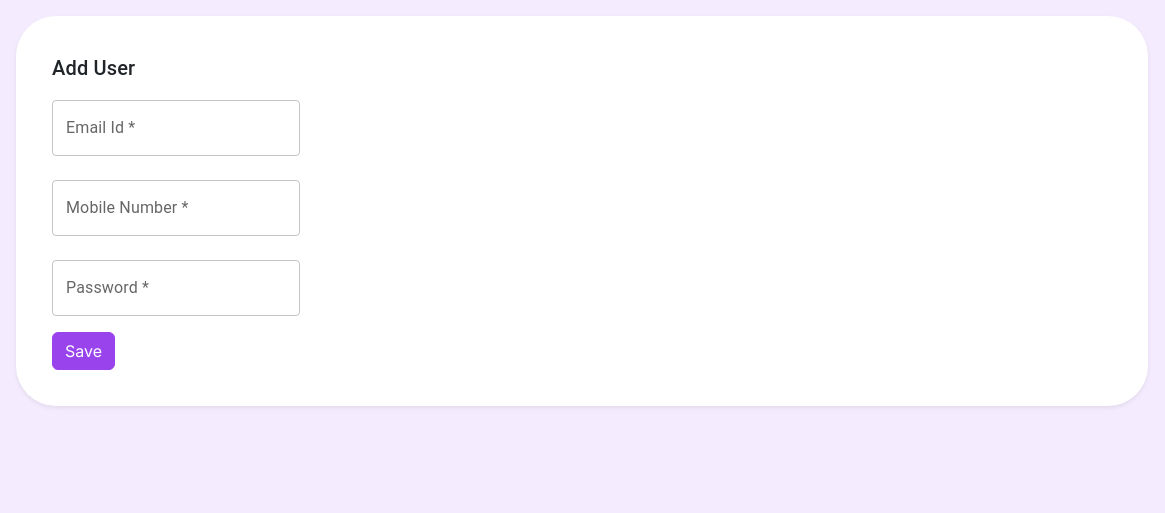
it: SuperAdmin Component › validates email input correctly
The image size is (1165, 513).
Type "invalid-email" into the field labelled "Email Id *". click: (176, 128)
box: [52,100,300,156]
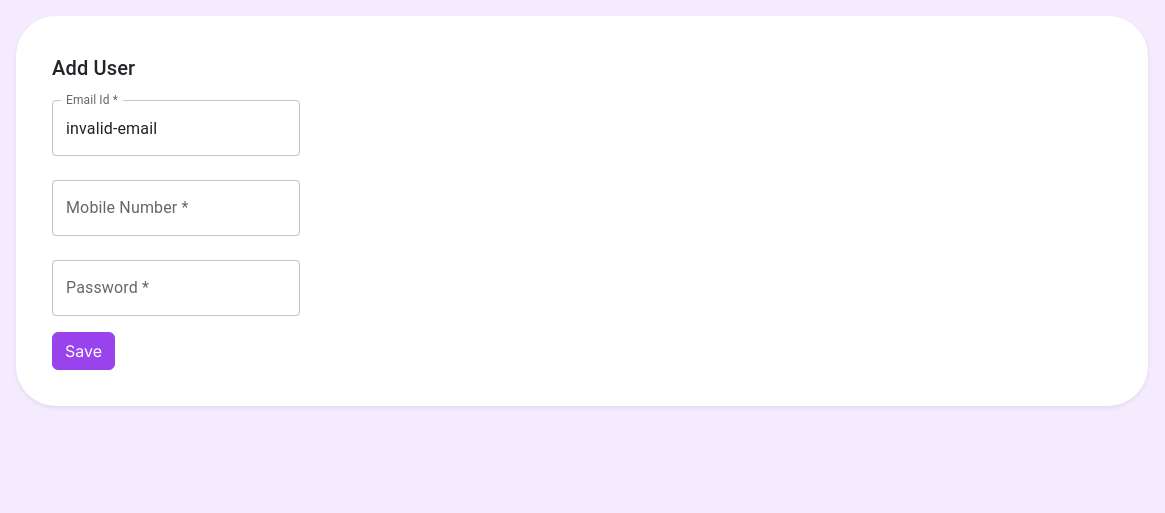
Type "invalid-phone" into the field labelled "Mobile Number *". click: (176, 208)
box: [52,180,300,236]
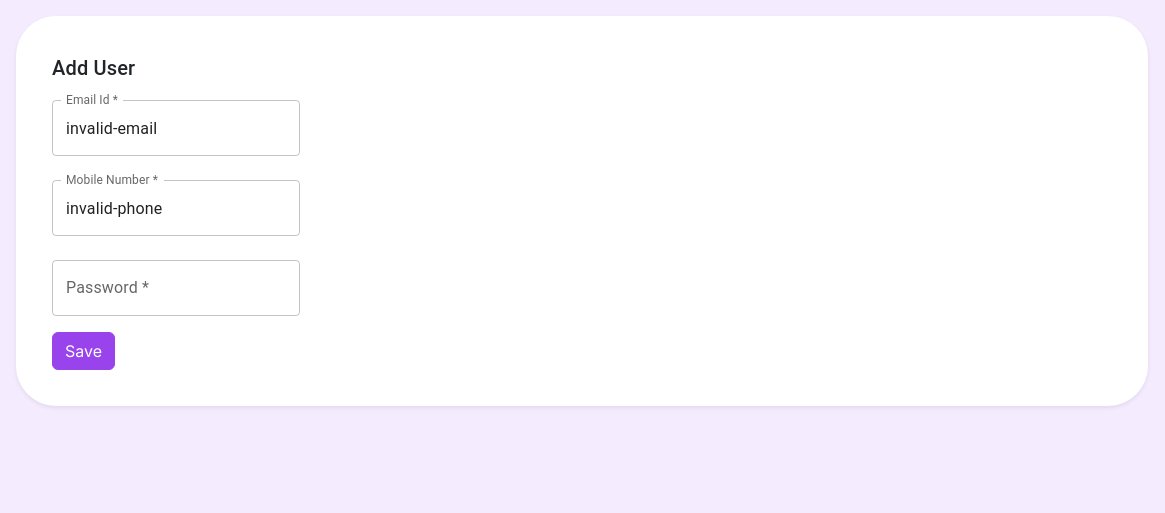
Click the button "Save". click: (84, 351)
box: [52,332,115,370]
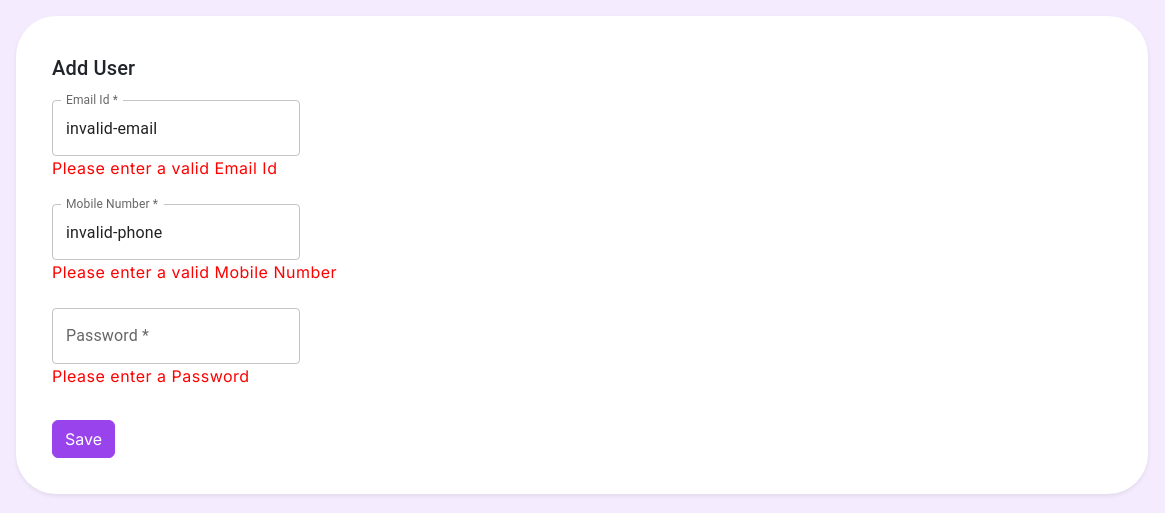
Check: the text "Please enter a valid Email Id" is shown, box [52,158,277,178]
Check: the text "Please enter a valid Mobile Number" is shown, box [52,262,337,282]
